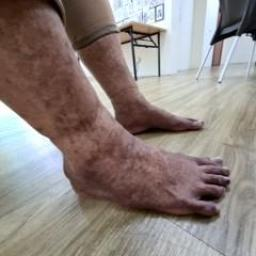Lateral View -Right Foot-: (43, 115, 243, 233)
